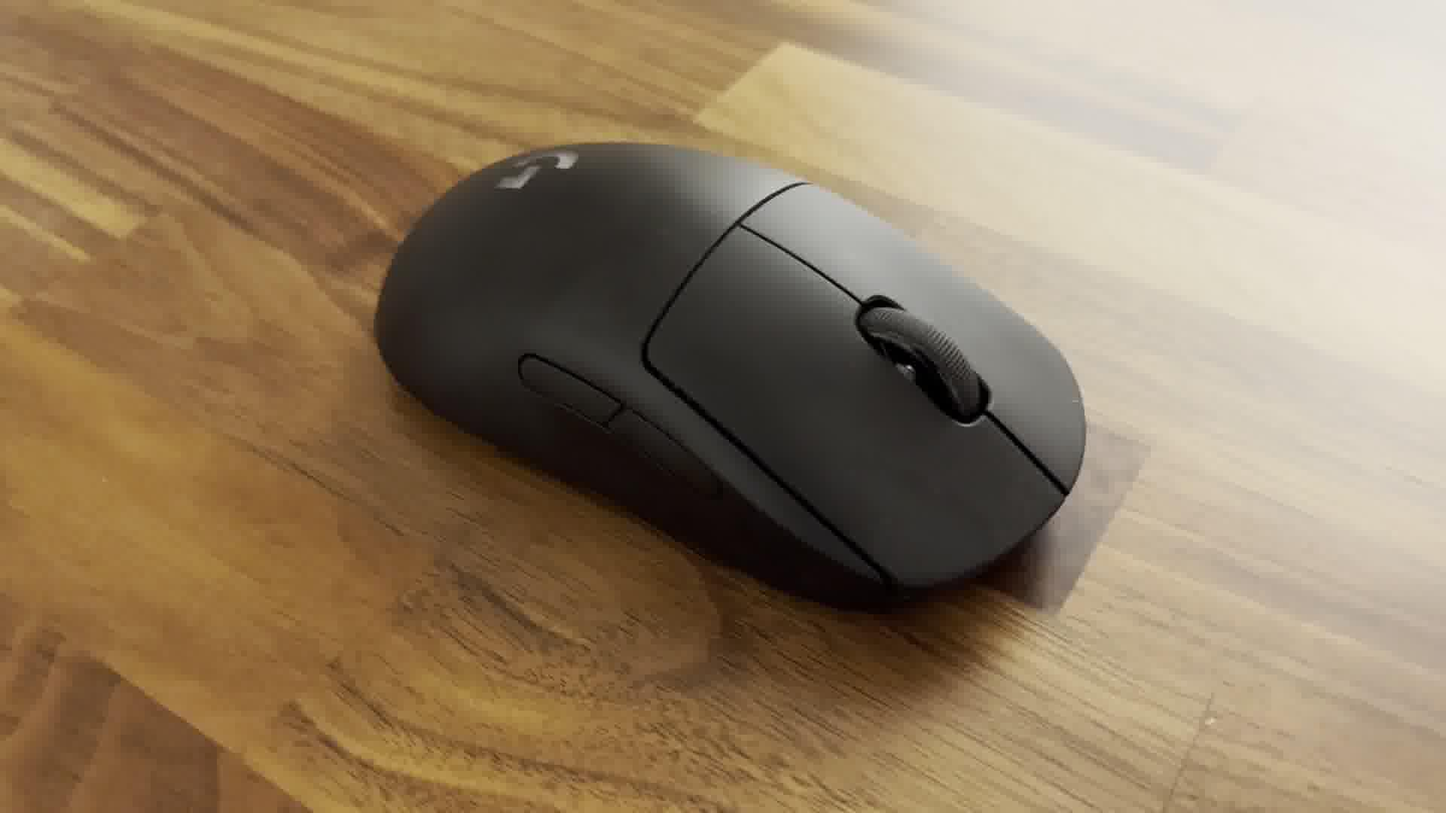mouse: (373, 132, 1089, 619)
